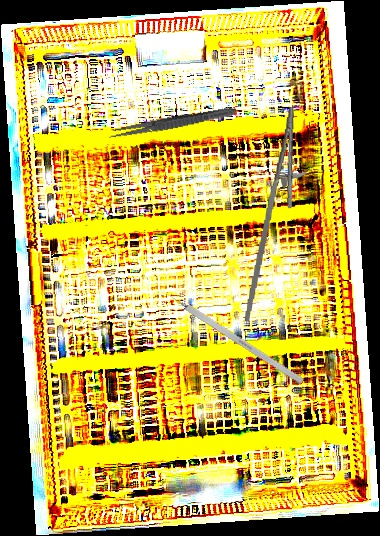Dressing Forceps: (107, 104, 238, 142)
Hook Surgical: (157, 286, 305, 385)
Needle Holder: (242, 104, 313, 325)
